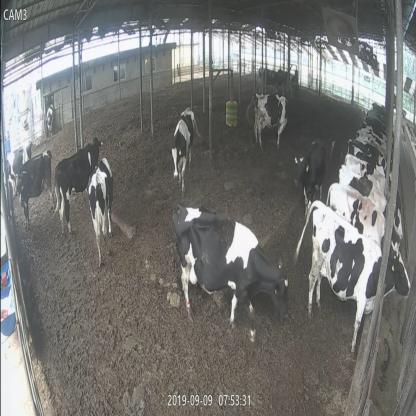cow: (304, 201, 410, 360), (174, 202, 287, 341), (55, 137, 100, 233), (14, 150, 53, 231), (89, 158, 112, 268), (170, 106, 195, 195), (252, 93, 288, 150), (295, 141, 325, 208), (8, 140, 32, 195), (46, 104, 55, 134)
